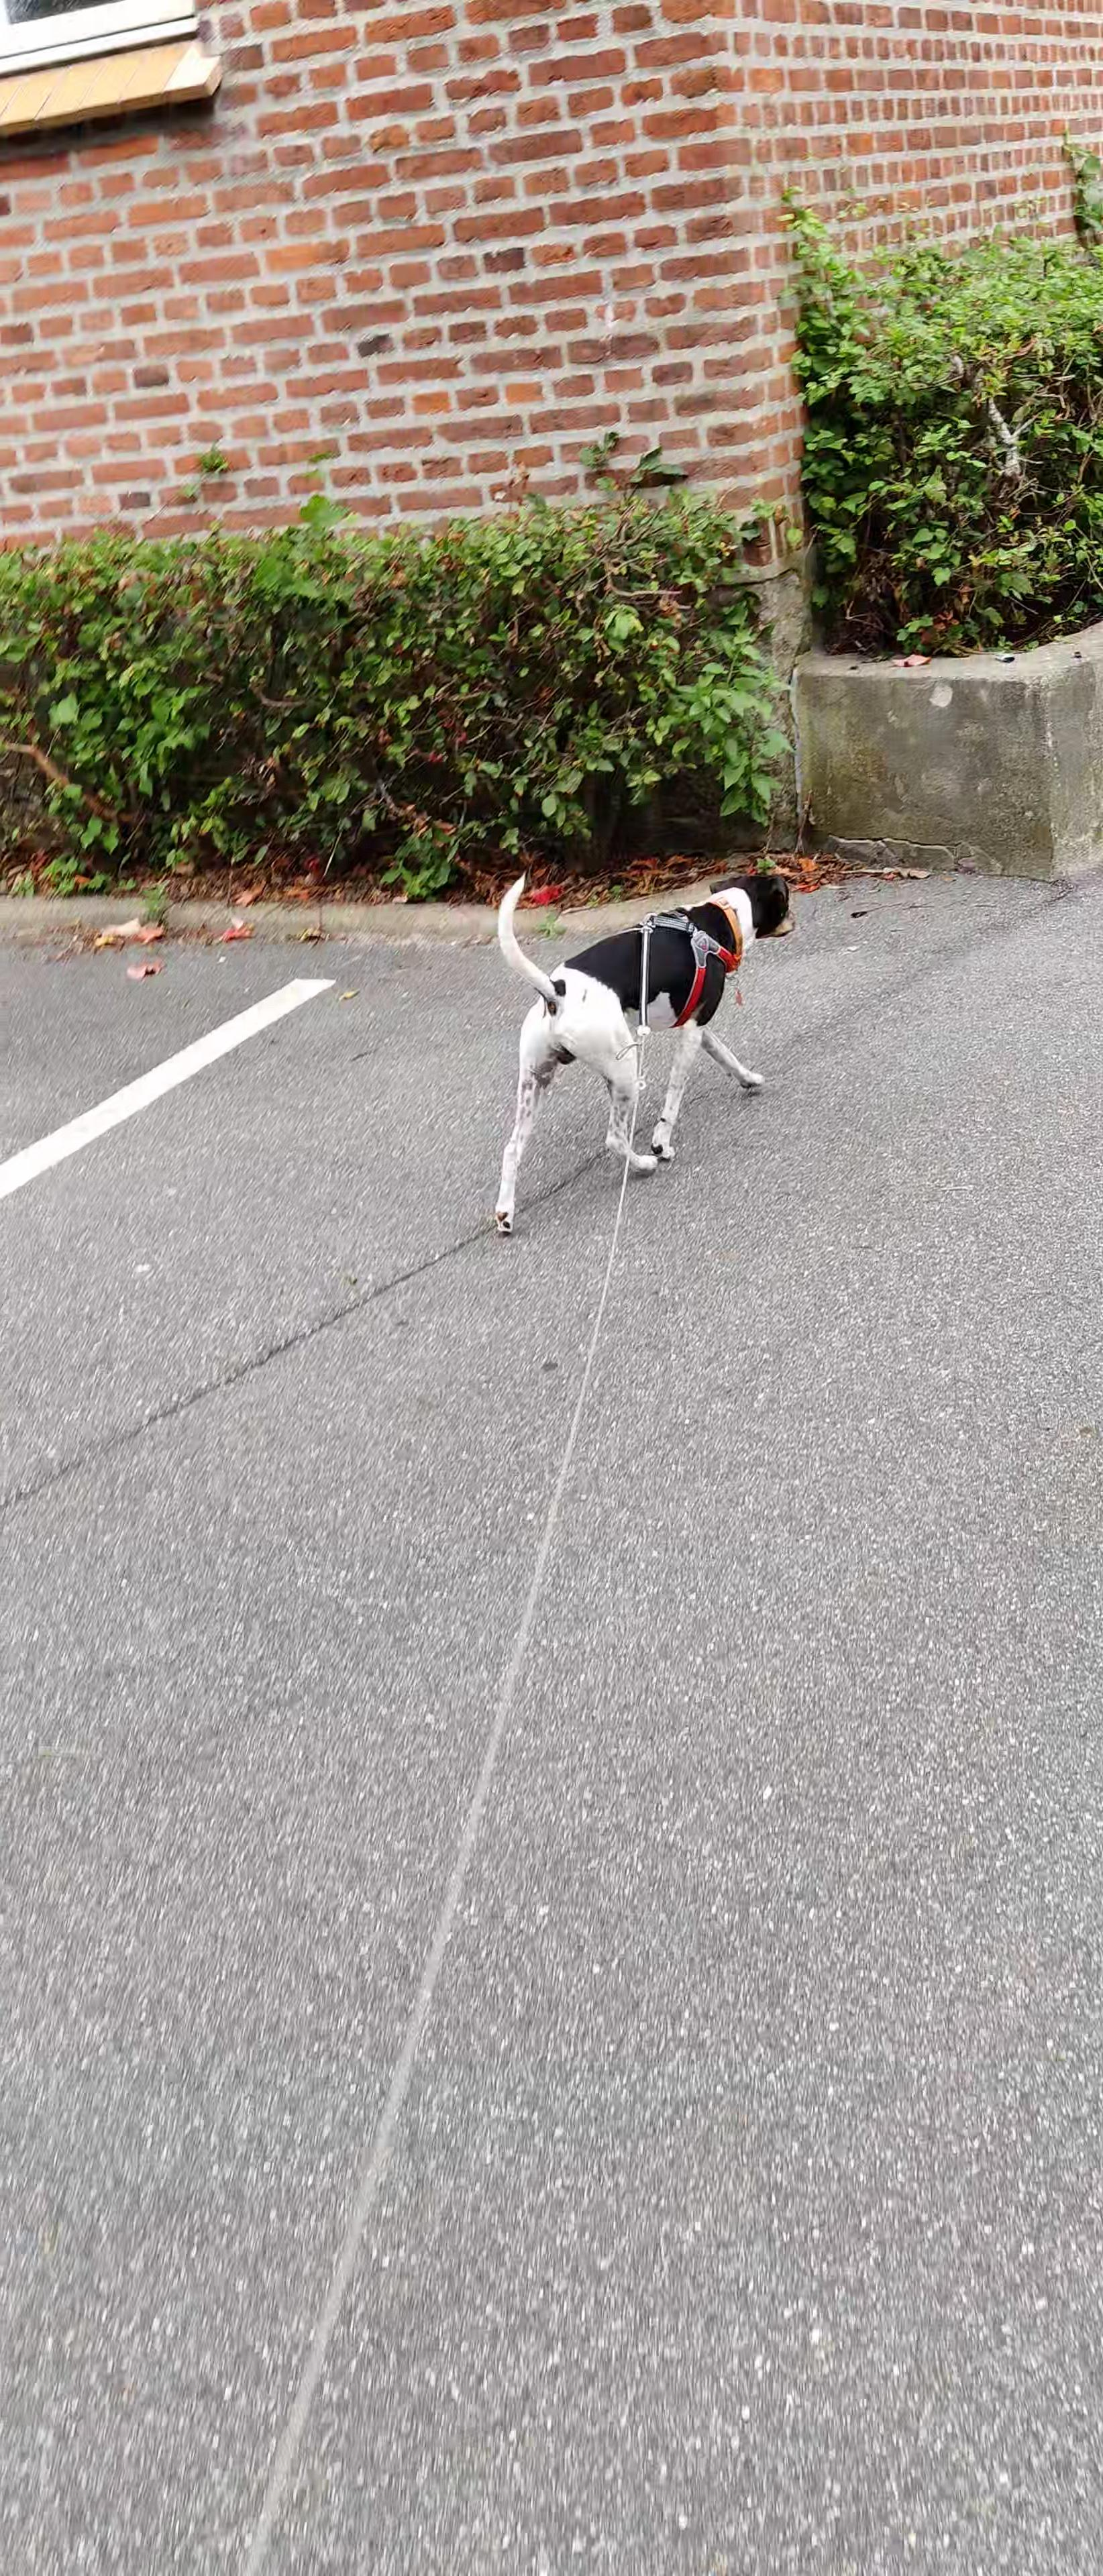Dog: (485, 861, 807, 1240)
